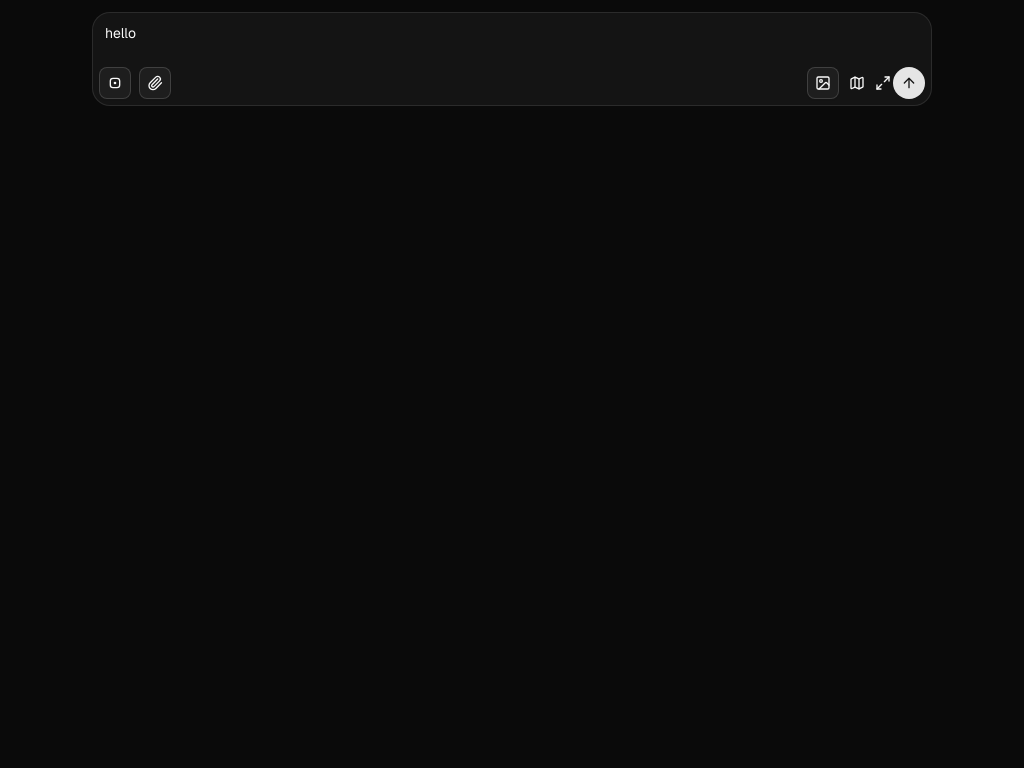
Test: Composer image mode › accepts a valid custom size for freeform models and flags an invalid one
This screenshot has width=1024, height=768.
Expected: the button named "seedream-4" is enabled, [99, 67, 131, 99]
Click the button named "Image settings" at (823, 83), box [807, 67, 839, 99]
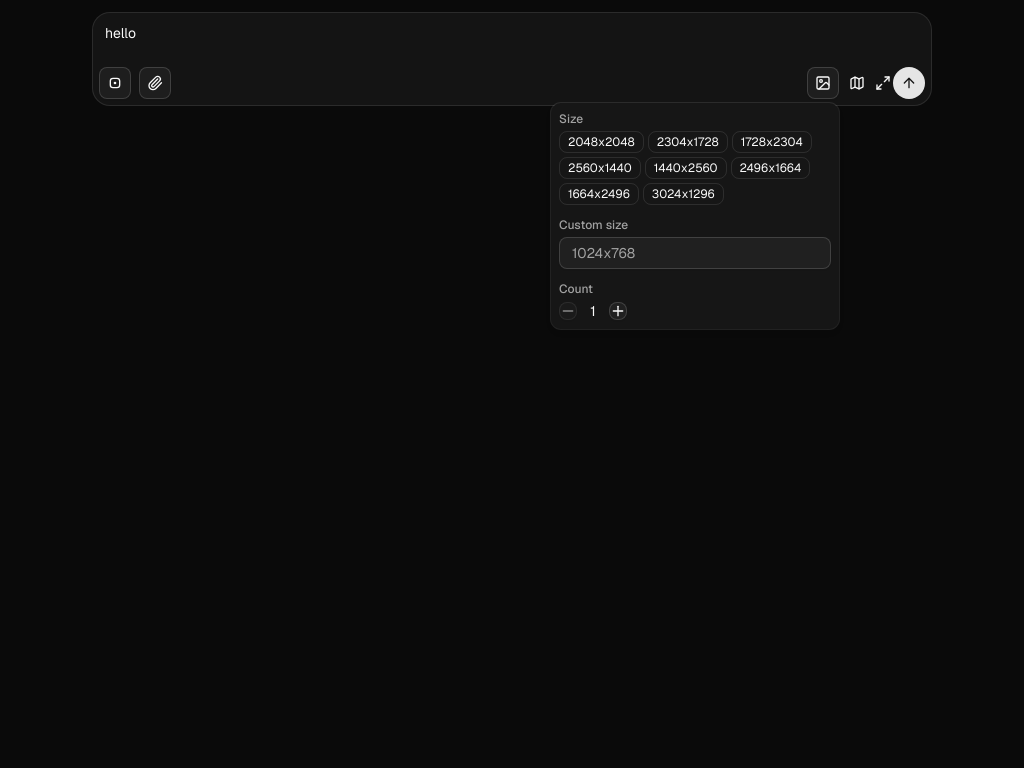
Type "abc" into the field named "Custom size" at (695, 253), box [559, 237, 831, 269]
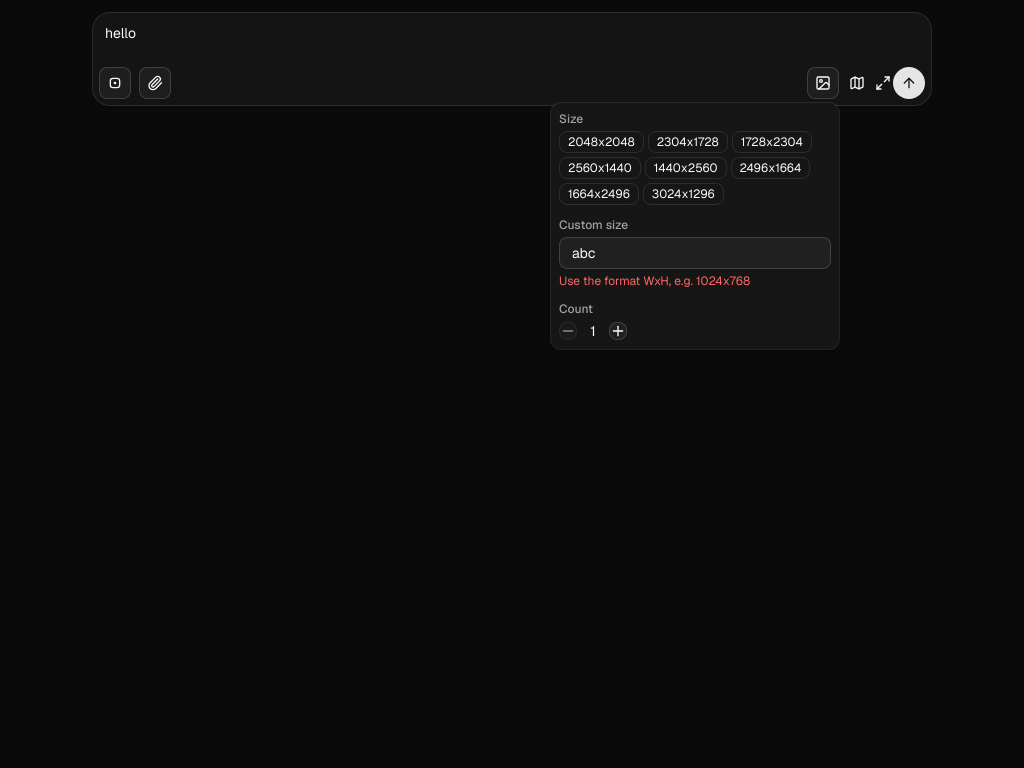
Expected: the text "Use the format WxH, e.g. 1024x768" is shown, [559, 273, 750, 289]
Replace the text in the field named "Custom size" with "500x500" at (695, 253), box [559, 237, 831, 269]
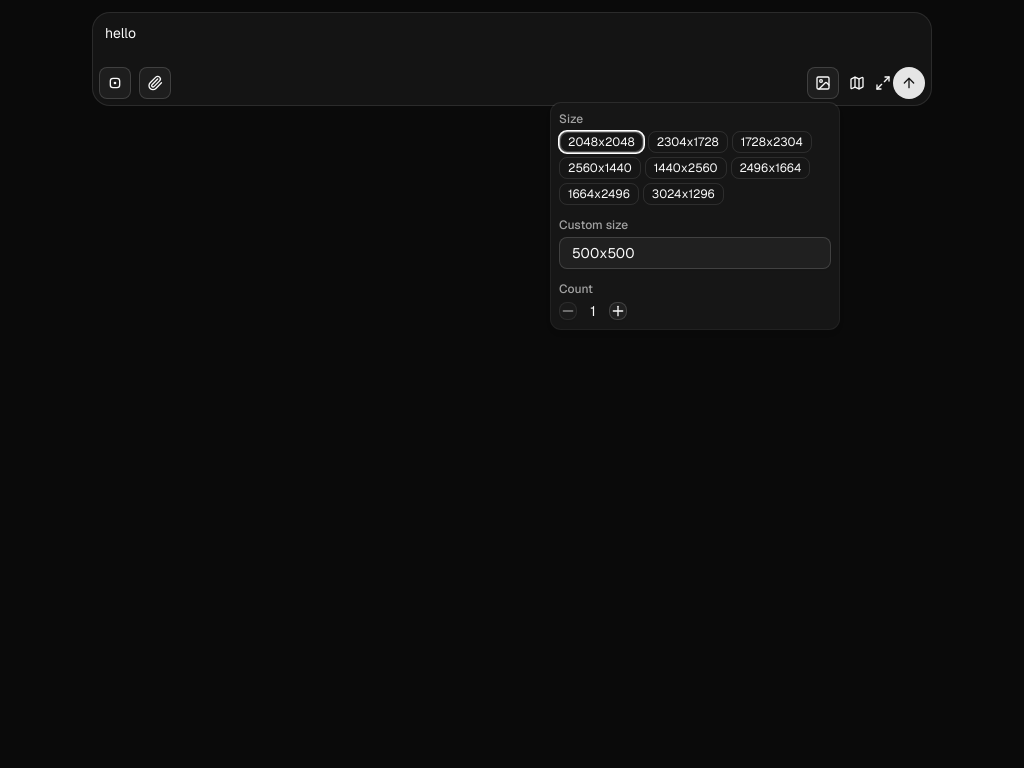
Expected: the text "Use the format WxH, e.g. 1024x768" is gone
